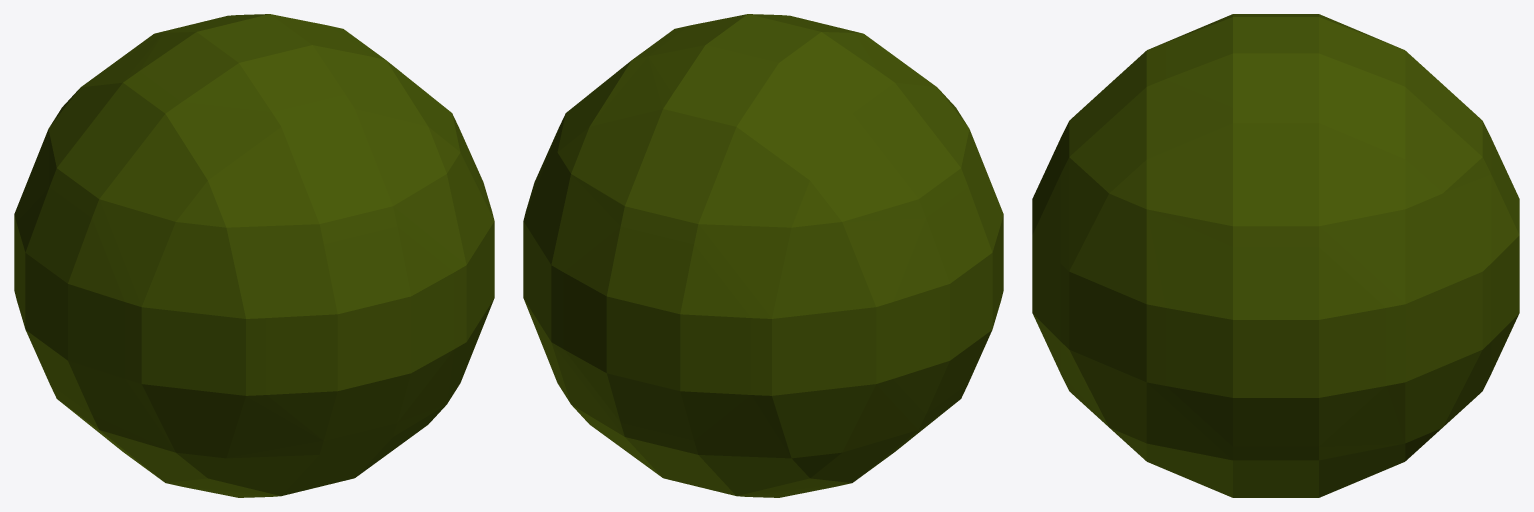
The model's file is ball.obj.
3 views of the same model, side by side, from view 1: azimuth 30°, elevation 25°; view 2: azimuth 150°, elevation 25°; view 3: azimuth 270°, elevation 25° (orthographic).
Parts seen in each view (by area): view 1: Mesh_Mesh_Mesh_Mesh_Mball_; view 2: Mesh_Mesh_Mesh_Mesh_Mball_; view 3: Mesh_Mesh_Mesh_Mesh_Mball_.
Part boxes in pixels (<box>): Mesh_Mesh_Mesh_Mesh_Mball_: <box>14,14,494,497</box>; Mesh_Mesh_Mesh_Mesh_Mball_: <box>523,14,1003,497</box>; Mesh_Mesh_Mesh_Mesh_Mball_: <box>1032,14,1519,497</box>.
Size of the model in its own units: 0.4341 by 0.4341 by 0.4341.
